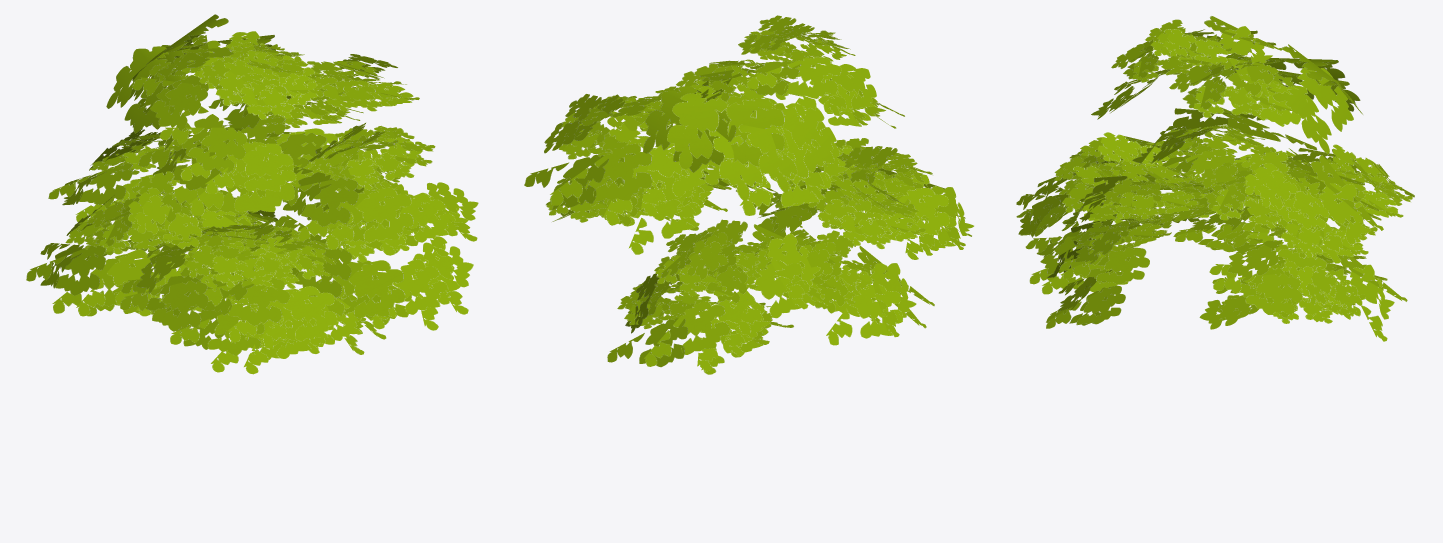
Rendered from tree-lowpoly3.fbx.
3 views of the same model, side by side, from view 1: azimuth 30°, elevation 25°; view 2: azimuth 150°, elevation 25°; view 3: azimuth 270°, elevation 25° (orthographic). The views are drawn at different scales.
Visible parts, largest first — view 1: foliage:tree3.001; view 2: foliage:tree3.001; view 3: foliage:tree3.001.
Boxes of the visible parts, x1,y1,x2,y2 form: foliage:tree3.001: (26, 14, 478, 374); foliage:tree3.001: (524, 15, 974, 374); foliage:tree3.001: (1016, 16, 1414, 341).
Size of the model in its own units: 59.61 by 73.75 by 57.85.
Materials: 1 (1 with a texture image).
